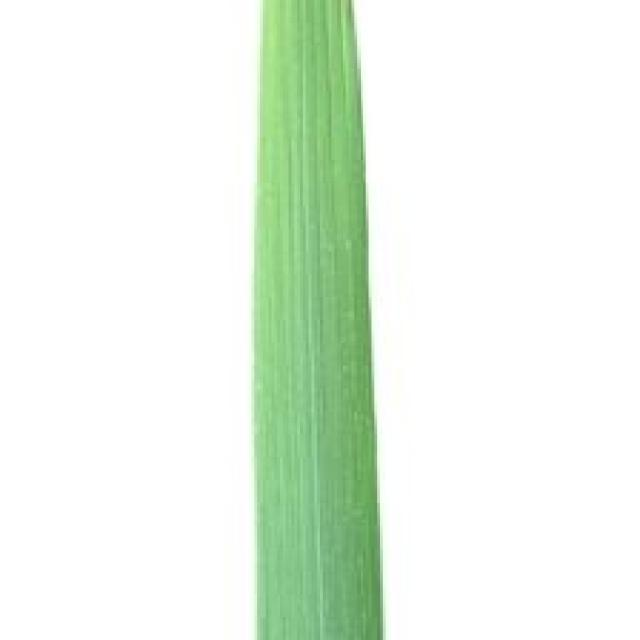Rice___Healthy_Rice_Plant: (253, 0, 388, 637)
